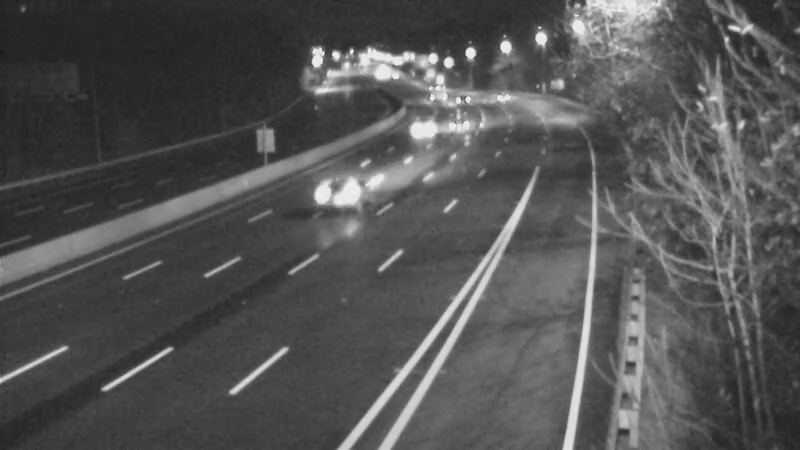vehicle: (295, 156, 375, 236), (475, 70, 525, 120), (409, 67, 459, 117), (431, 71, 481, 121), (432, 99, 482, 149), (390, 107, 440, 157)
